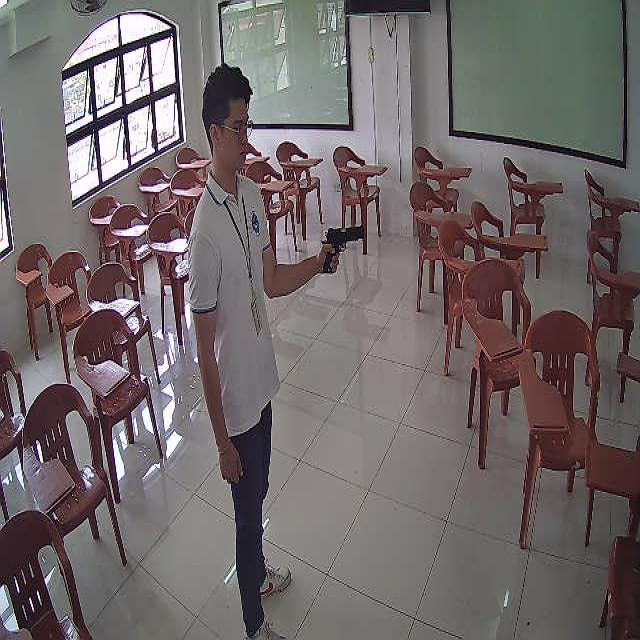pistol: (322, 227, 364, 273)
